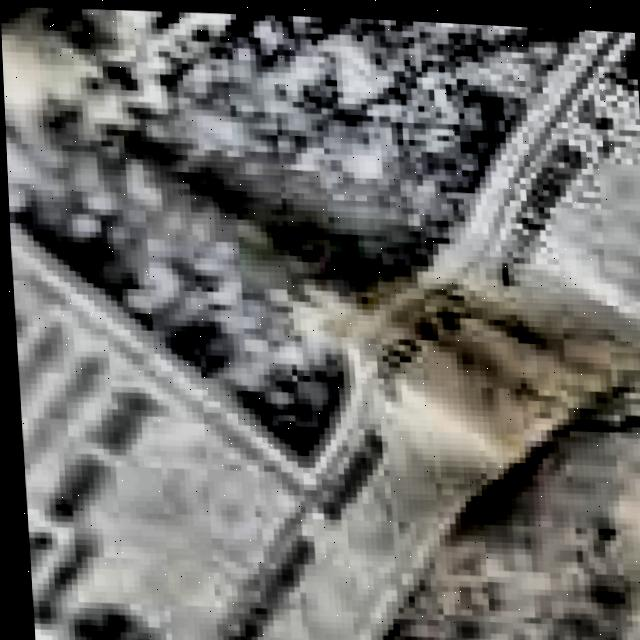paper: (0, 6, 640, 640)
